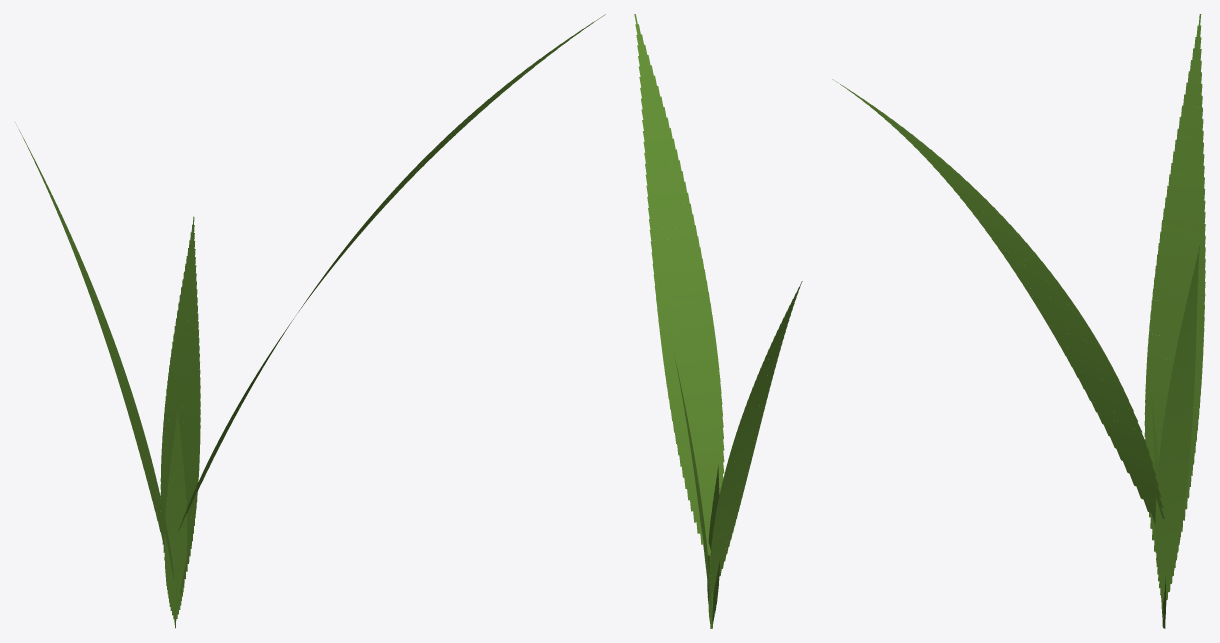
The model's file is maize_001_day_045.dae.
The picture shows the model from 3 angles, left to right: view 1: azimuth 30°, elevation 25°; view 2: azimuth 150°, elevation 25°; view 3: azimuth 270°, elevation 25°; orthographic projection. The views are drawn at different scales.
Visible parts, largest first — view 1: node; view 2: node; view 3: node.
Part boxes in pixels (<box>): node: <box>15,14,605,628</box>; node: <box>634,14,802,628</box>; node: <box>832,14,1205,628</box>.
Bounding box in the file's own units: 0.1658 × 0.2563 × 0.1273.
1 material, 1 textured.
